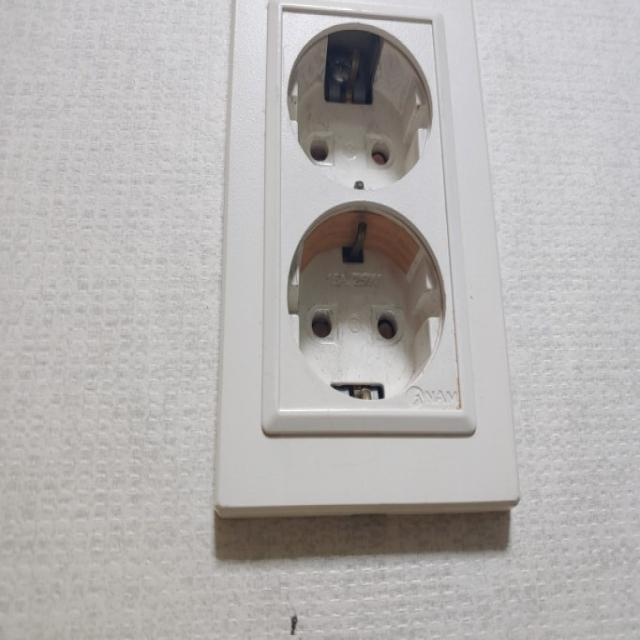typeb: (188, 3, 532, 589)
